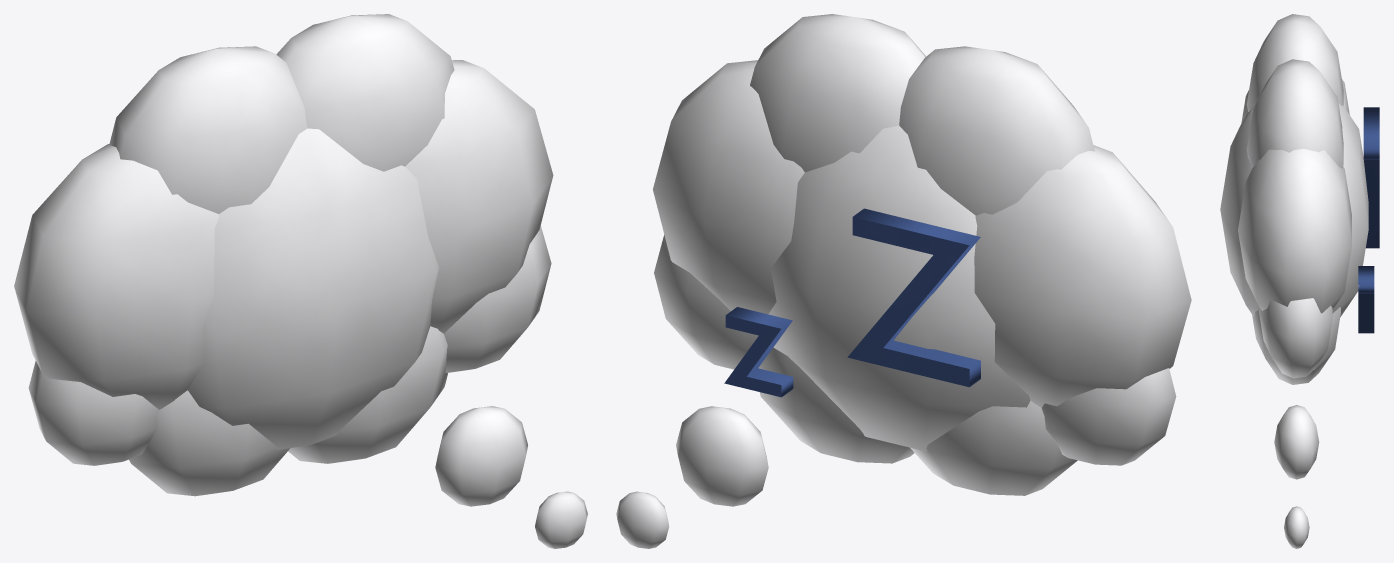
The model's file is Turno_SleepyBubble.fbx.
3 views of the same model, side by side, from view 1: azimuth 30°, elevation 25°; view 2: azimuth 150°, elevation 25°; view 3: azimuth 270°, elevation 25° (orthographic). The views are drawn at different scales.
Parts seen in each view (by area): view 1: Turno_SleepyBubble; view 2: Turno_SleepyBubble; view 3: Turno_SleepyBubble.
Boxes of the visible parts, x1,y1,x2,y2 form: Turno_SleepyBubble: (14, 14, 587, 548); Turno_SleepyBubble: (616, 14, 1191, 548); Turno_SleepyBubble: (1220, 14, 1379, 548).
Bounding box in the file's own units: 0.857 × 0.84 × 0.298.
Materials: 1 (1 with a texture image).
